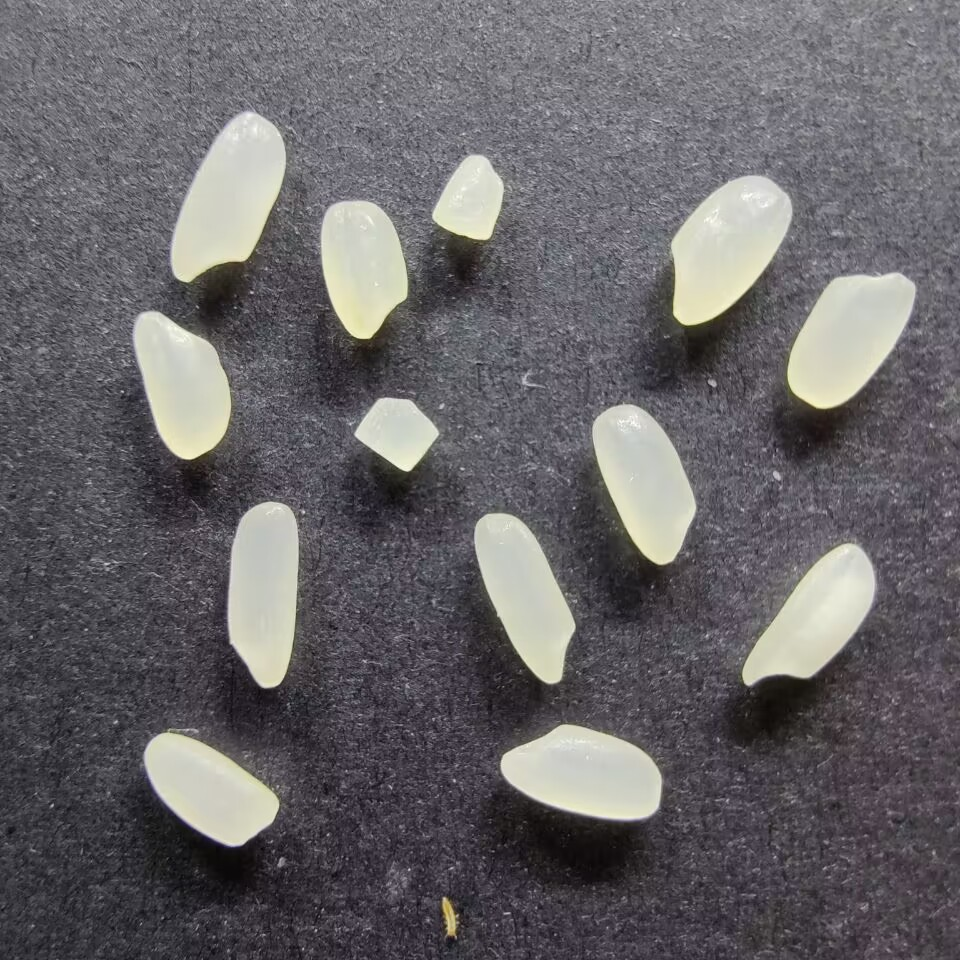broken: (353, 396, 440, 474), (430, 153, 505, 241)
others: (436, 893, 462, 941)
rice: (169, 109, 287, 285), (740, 543, 878, 687), (668, 173, 792, 326), (785, 272, 918, 410), (472, 512, 577, 685), (590, 403, 698, 565), (141, 730, 280, 850), (499, 723, 663, 821), (133, 310, 234, 460), (225, 500, 300, 689), (319, 199, 409, 339)
